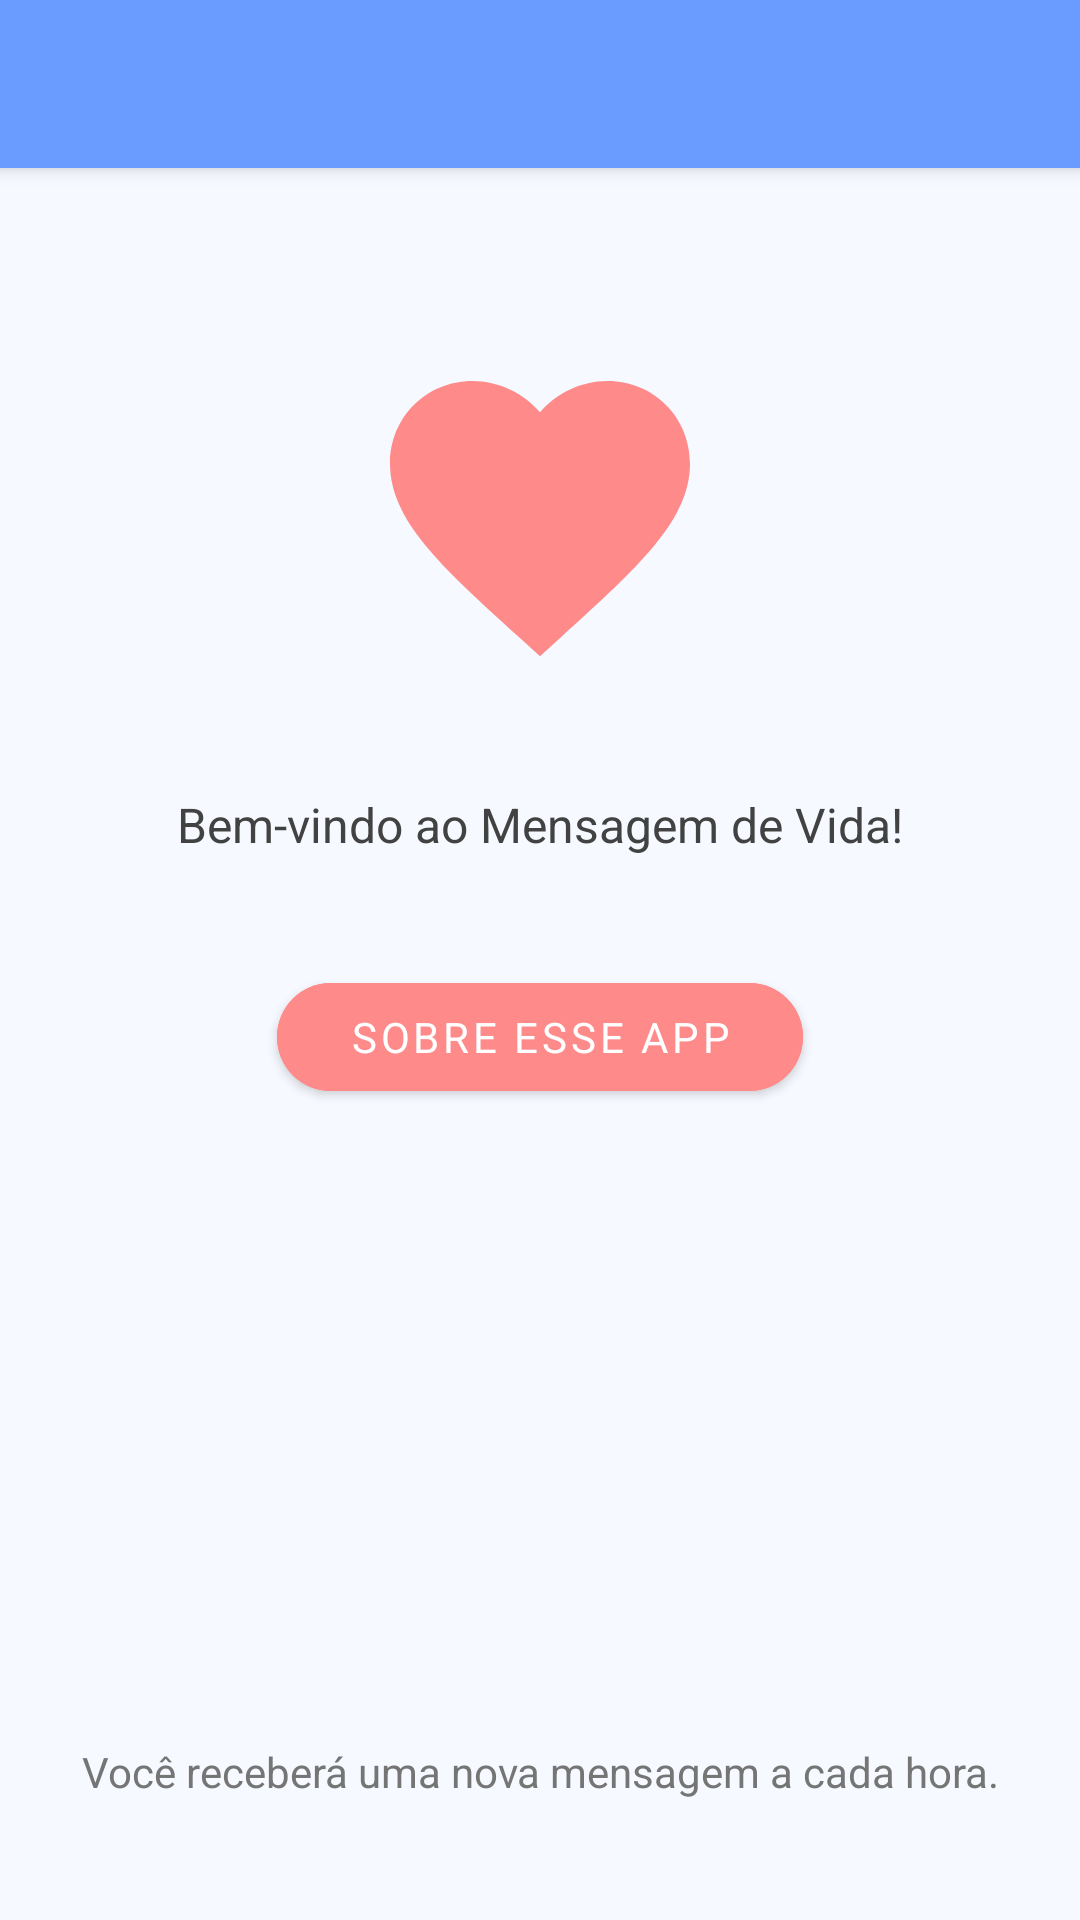

Locate icon controls on the screen. Image size 1080px×1920px, boxes as (x1=x1, y1=y1, x2=x2, y2=y2).
heart: (x1=390, y1=381, x2=690, y2=656)
